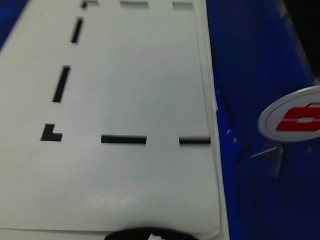company: (264, 92, 318, 143)
